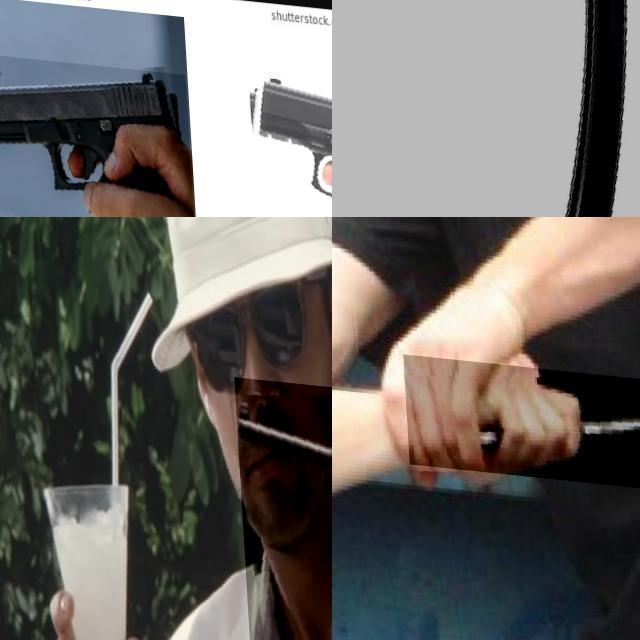-: (399, 349, 640, 485)
gun-knife-thesis - v11 Yolov5 augmented: (332, 0, 640, 217), (0, 50, 189, 217), (231, 370, 332, 640), (230, 64, 332, 217), (206, 0, 332, 120), (0, 0, 68, 65)
